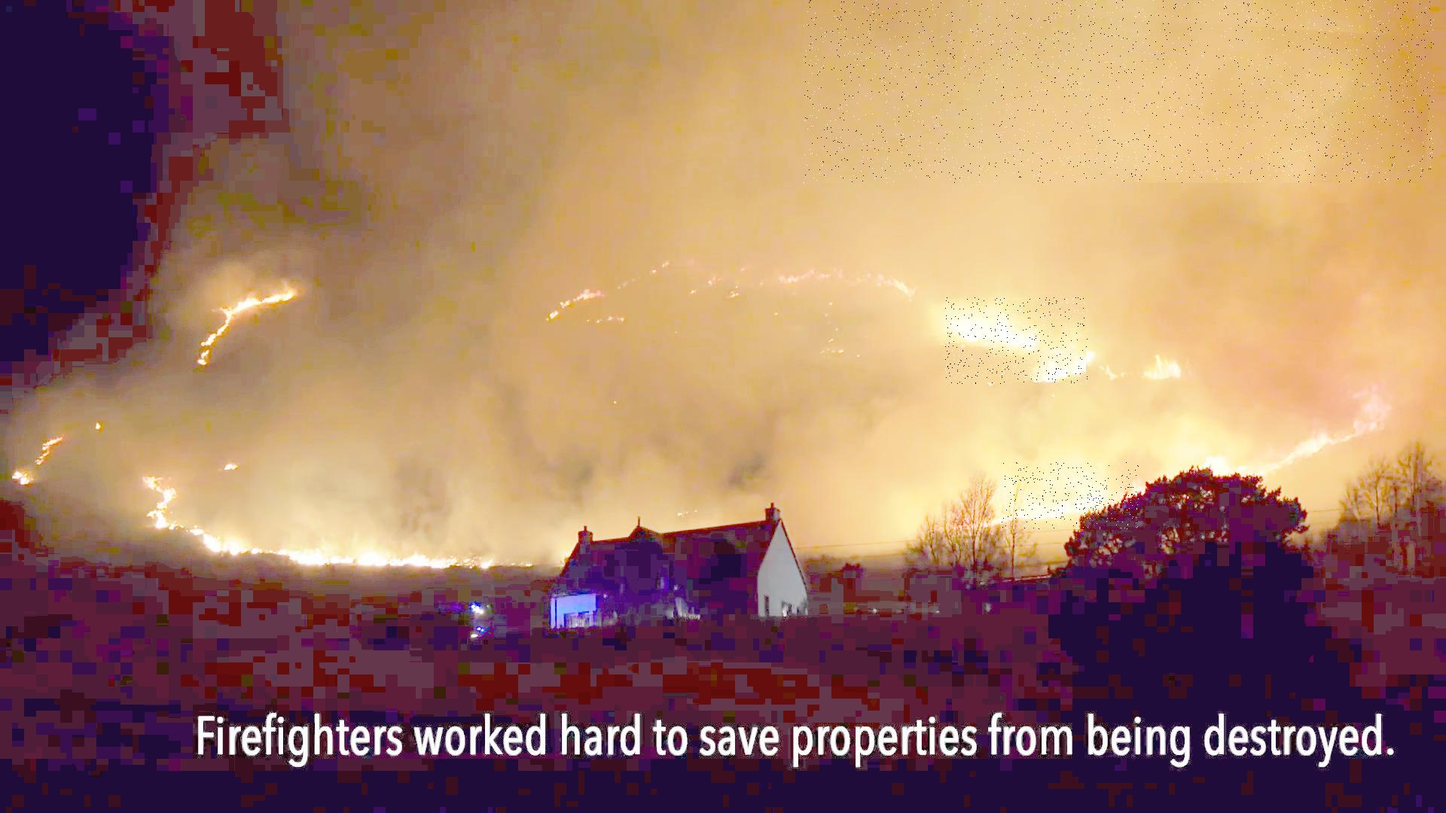fire: (946, 298, 1088, 384), (1002, 462, 1139, 529)
smoke: (804, 0, 1435, 183)
